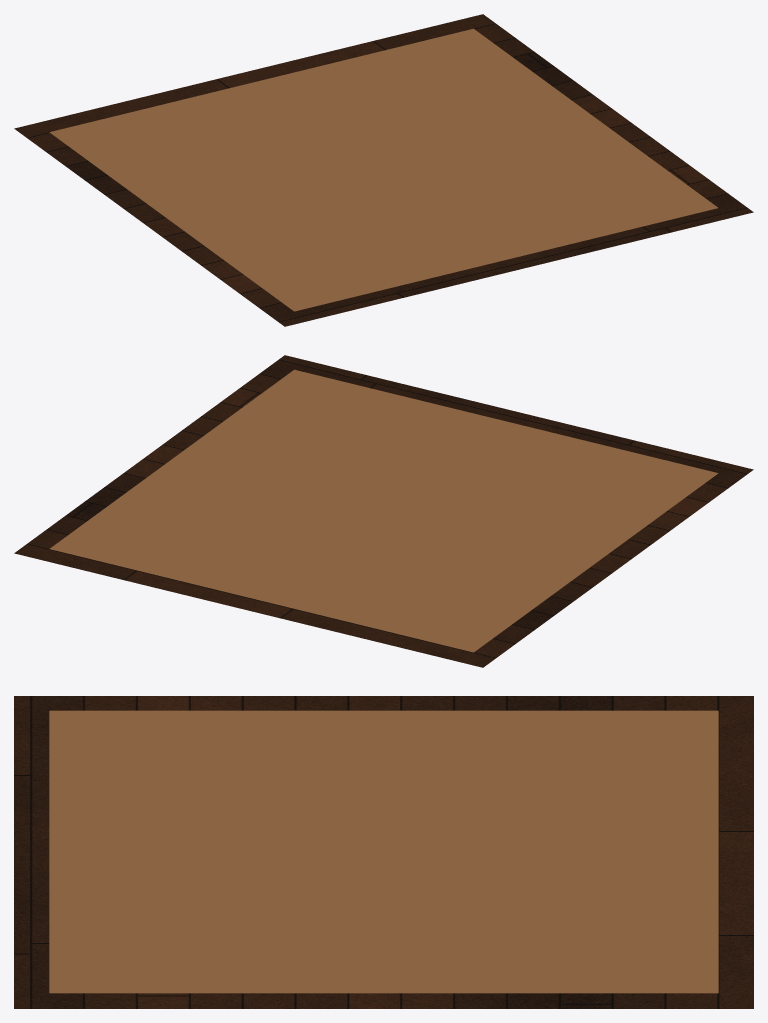
The model's file is corridor_circle_review.glb.
3 renders of one model, top to bottom at view 1: azimuth 30°, elevation 25°; view 2: azimuth 150°, elevation 25°; view 3: azimuth 270°, elevation 25°, orthographic. The views are drawn at different scales.
Parts seen in each view (by area): view 1: room_2·磨亮的圆圈, room_2·墙面、地面与线脚; view 2: room_2·磨亮的圆圈, room_2·墙面、地面与线脚; view 3: room_2·磨亮的圆圈, room_2·墙面、地面与线脚.
Boxes of the visible parts, x1,y1,x2,y2 form: room_2·磨亮的圆圈: (49,28,717,311); room_2·墙面、地面与线脚: (14,14,753,326); room_2·磨亮的圆圈: (50,369,718,652); room_2·墙面、地面与线脚: (14,355,753,667); room_2·磨亮的圆圈: (49,710,718,993); room_2·墙面、地面与线脚: (14,696,753,1008).
Size of the model in its own units: 2.1 by 0.0015 by 2.1.
Materials: 2 (2 with a texture image).
